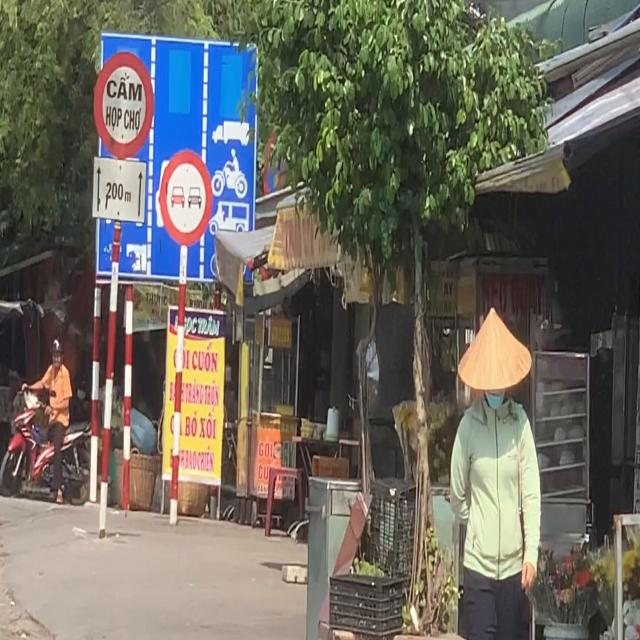Cam con lai: (91, 50, 156, 159), (158, 148, 214, 249)
